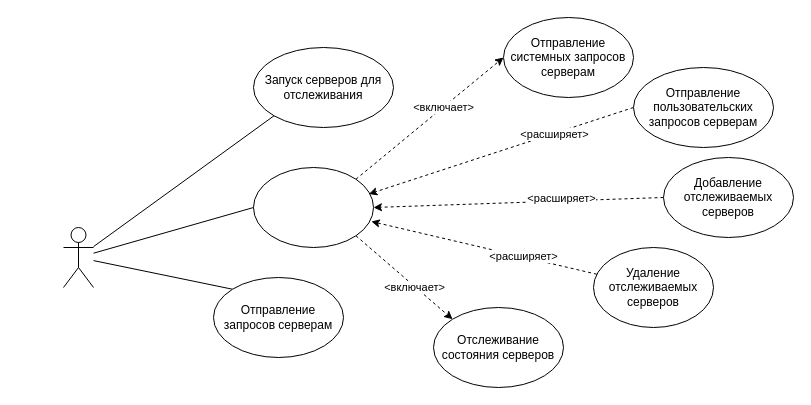
Some shapes in this 811 by 405 pixel diagram are drawn without their labels. Each missing label, with the centre of its shape:
"Пользование менеджером серверов" goes at point 313,207.
"Пользователь системы мониторинга" goes at point 78,257.
